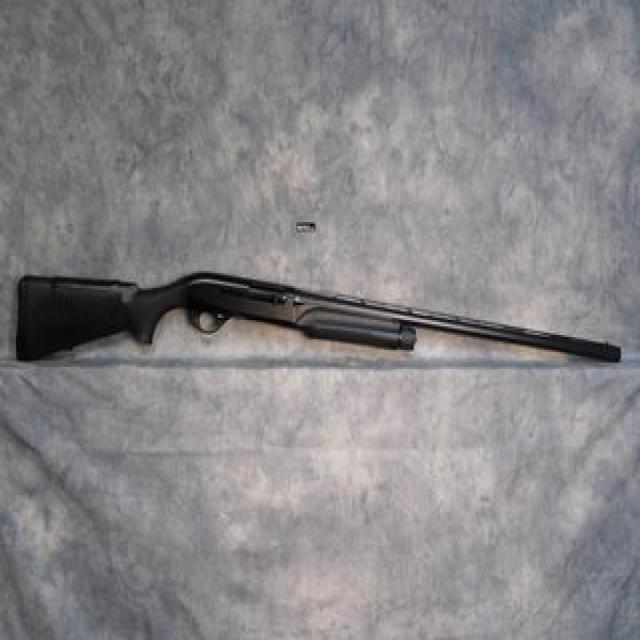ShotGun: (16, 273, 622, 363)
